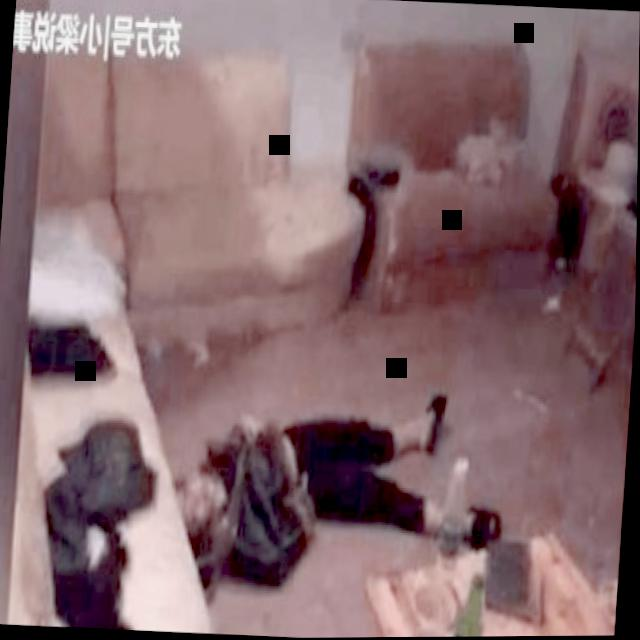Fall-Detected: (167, 348, 503, 597)
